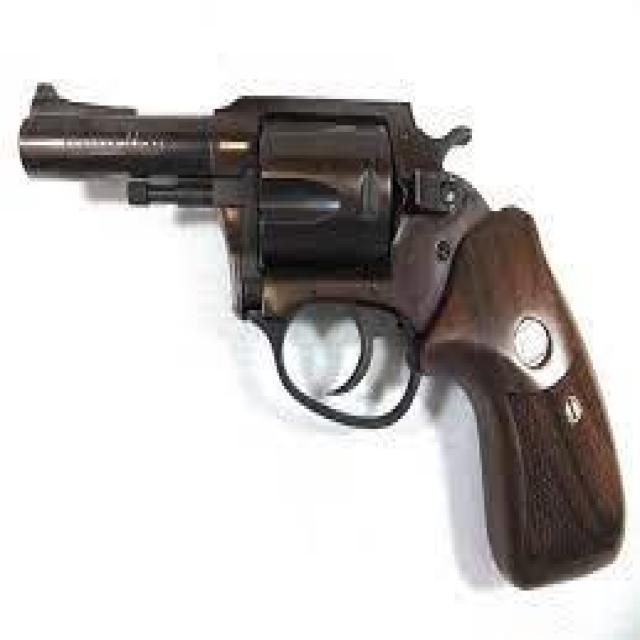Gun: (28, 52, 639, 609)
